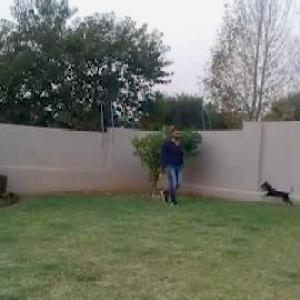follow: (159, 120, 185, 209)
